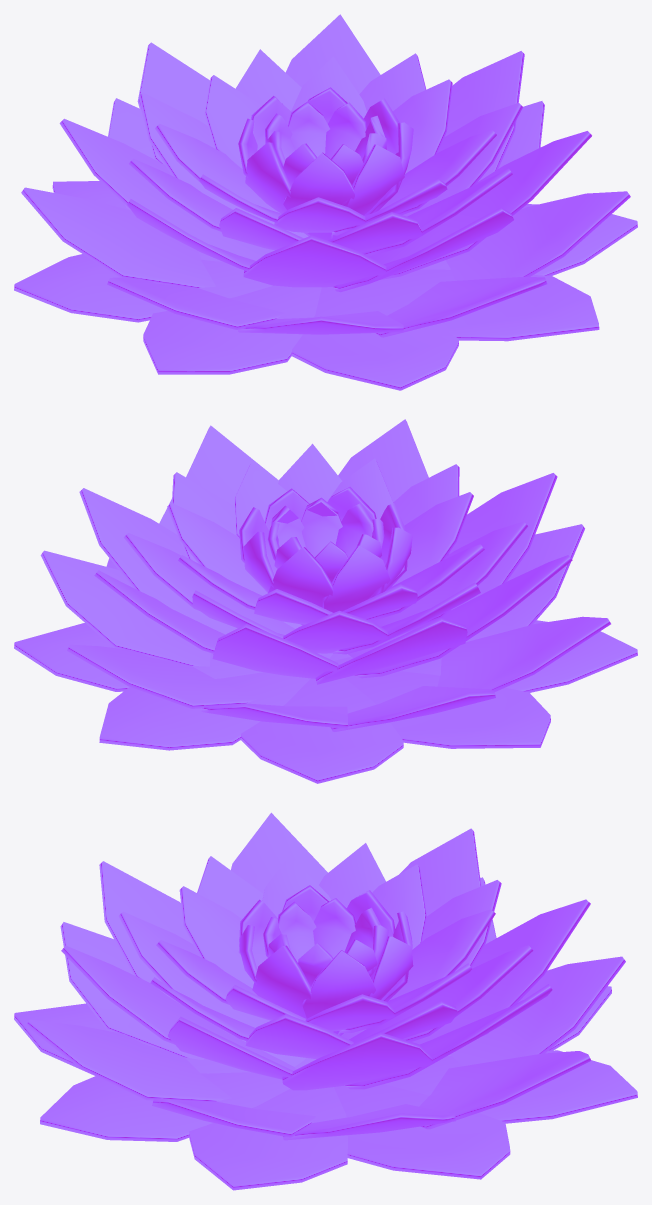
File: succulant_mesh_v02.fbx
3 renders of one model, top to bottom at view 1: azimuth 30°, elevation 25°; view 2: azimuth 150°, elevation 25°; view 3: azimuth 270°, elevation 25°, orthographic. The views are drawn at different scales.
Parts seen in each view (by area): view 1: succulant_mesh_v01; view 2: succulant_mesh_v01; view 3: succulant_mesh_v01.
Boxes of the visible parts, x1,y1,x2,y2 form: succulant_mesh_v01: (14, 14, 637, 390); succulant_mesh_v01: (14, 419, 637, 783); succulant_mesh_v01: (14, 812, 637, 1190).
Bounding box in the file's own units: 8.53 × 2.69 × 8.53.
